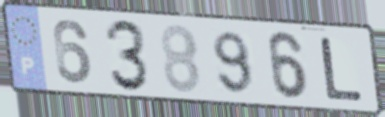3: (104, 17, 151, 94)
6: (266, 30, 311, 101), (50, 17, 96, 86)
8: (160, 22, 204, 96)
9: (210, 29, 256, 96)
L: (319, 35, 367, 103)
